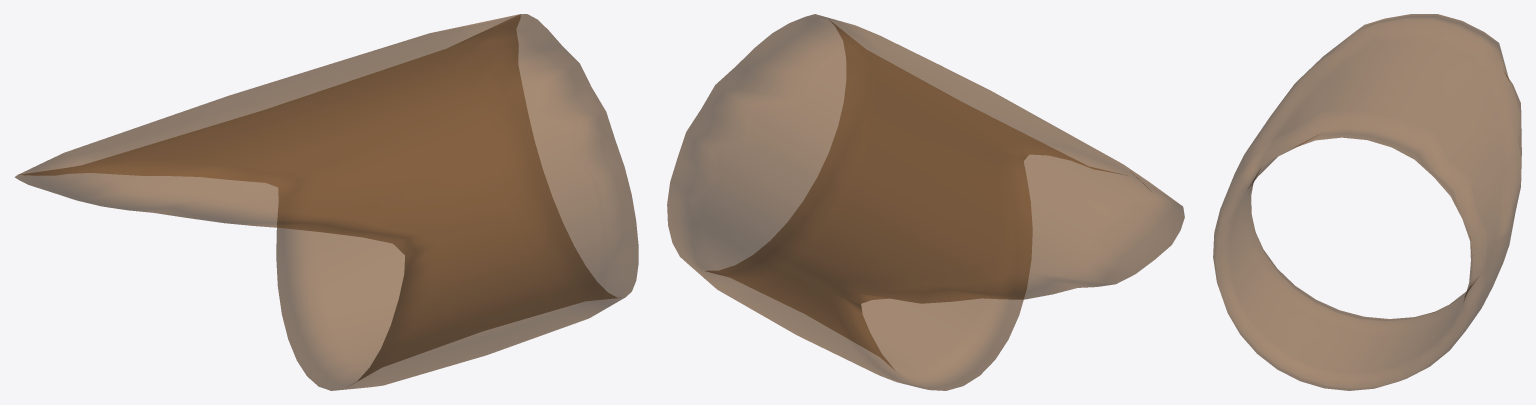
Rendered from gamejam_glassshards_BottleNeckA.fbx.
3 renders of one model, left to right at view 1: azimuth 30°, elevation 25°; view 2: azimuth 150°, elevation 25°; view 3: azimuth 270°, elevation 25°, orthographic. The views are drawn at different scales.
Visible parts, largest first — view 1: BottleNeckA; view 2: BottleNeckA; view 3: BottleNeckA.
Part boxes in pixels (x1,y1,x2,y2): BottleNeckA: (15,14,638,390); BottleNeckA: (667,14,1184,390); BottleNeckA: (1213,14,1521,390).
Size of the model in its own units: 621 by 358 by 368.
